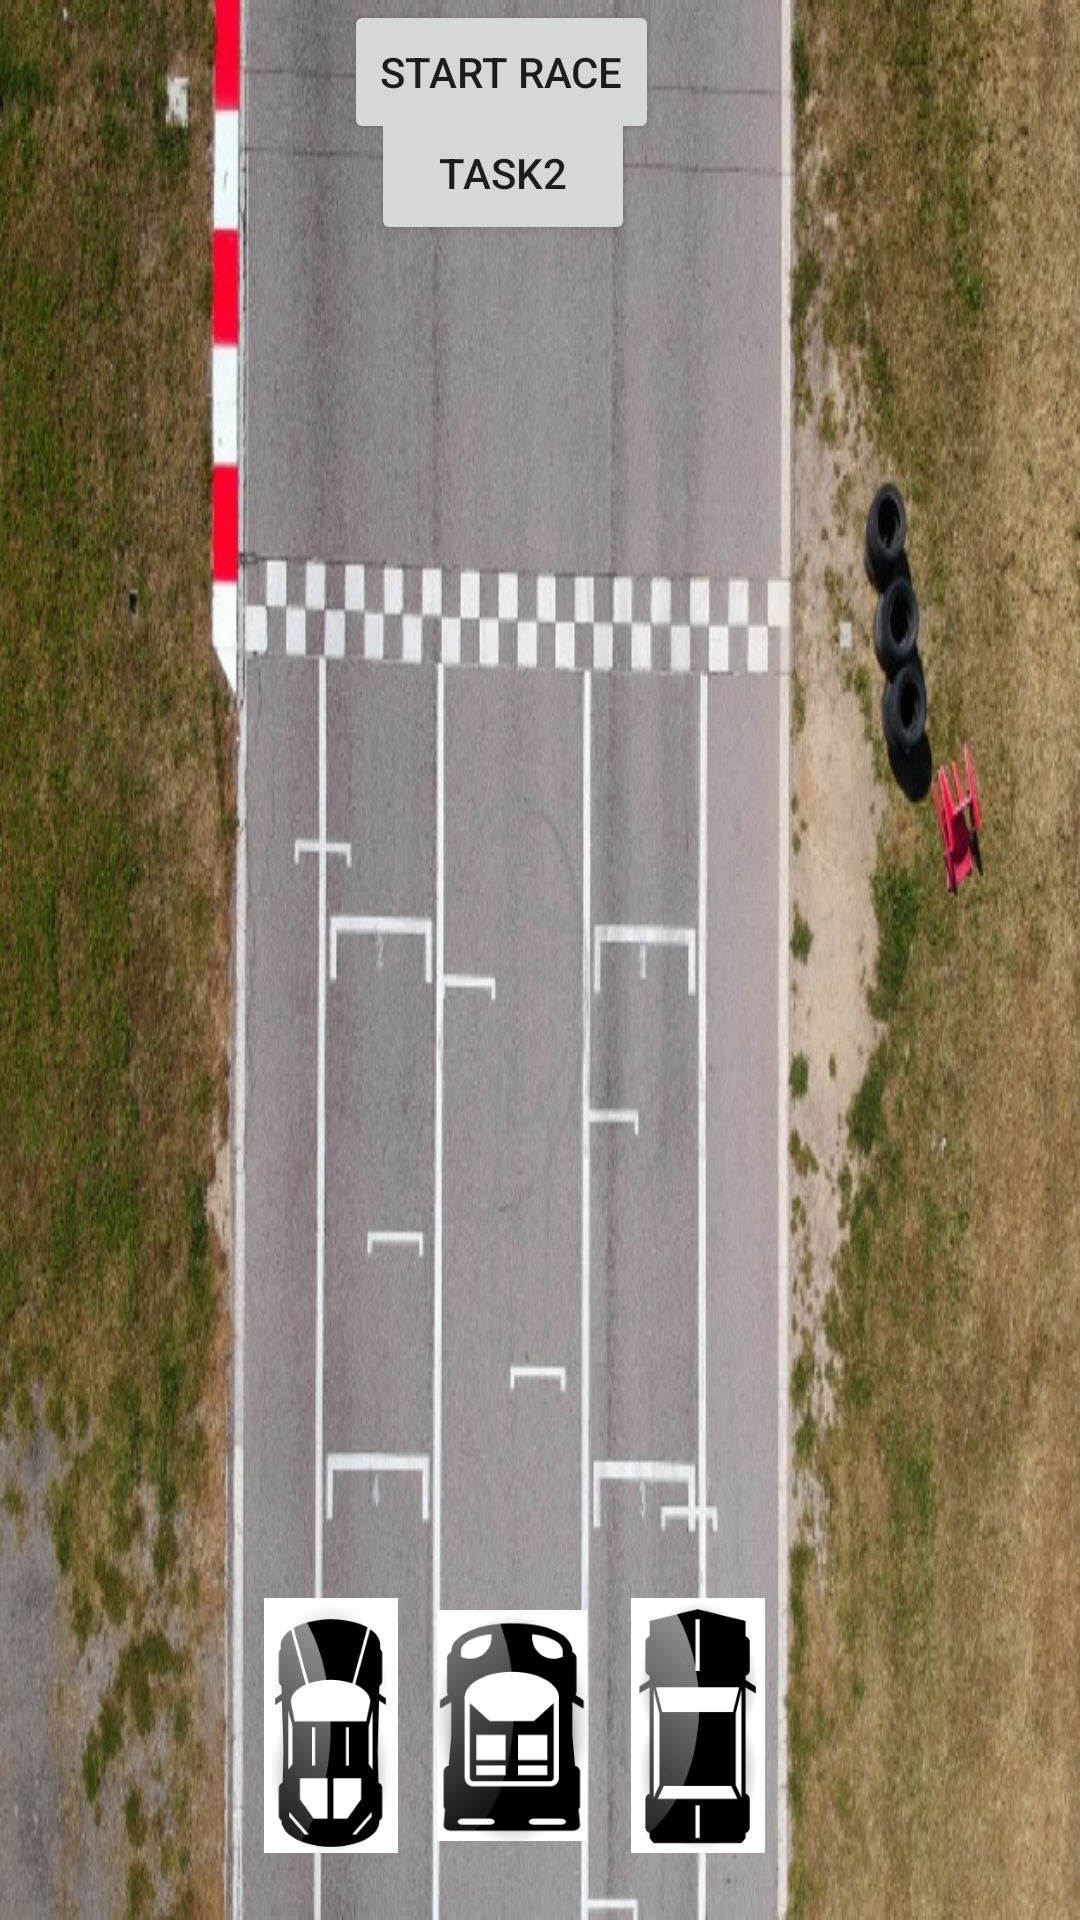

Icon click points for this 1080 x 1920 phone screenshot, format point (x, y):
car: point (331, 1725), point (512, 1725), point (701, 1725)
